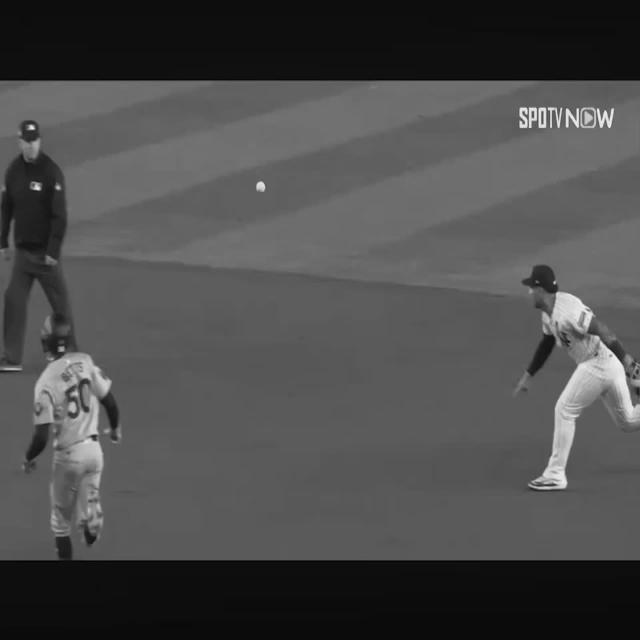baseball: (256, 180, 266, 193)
baseball_glove: (628, 360, 640, 393)
shoe: (528, 468, 568, 492)
